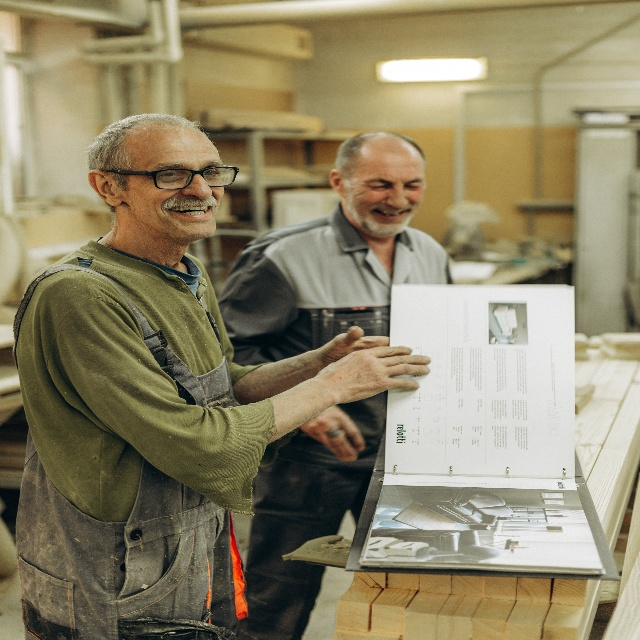Gafas: (104, 165, 240, 190)
Sin_guantes: (316, 340, 431, 407), (300, 408, 365, 462), (317, 325, 389, 373)
